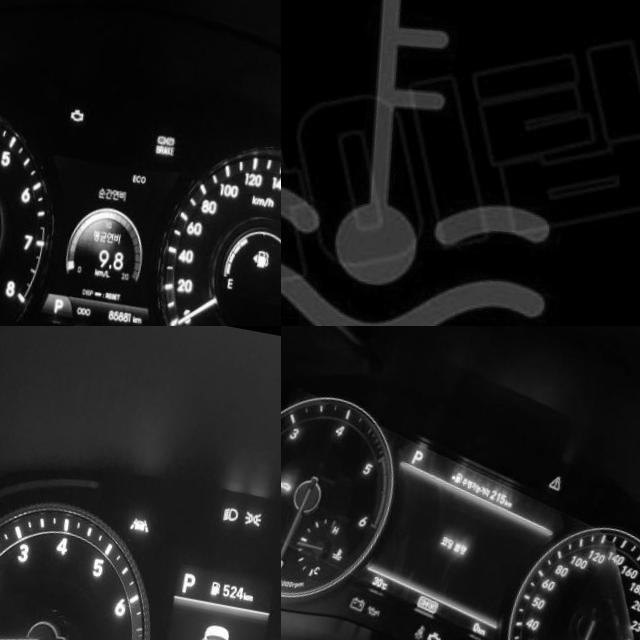Central Warning lamp: (557, 457, 573, 475)
Engine cooling system: (281, 0, 609, 326)
Low beam: (227, 493, 246, 511)
SideLamp: (249, 496, 269, 513)
